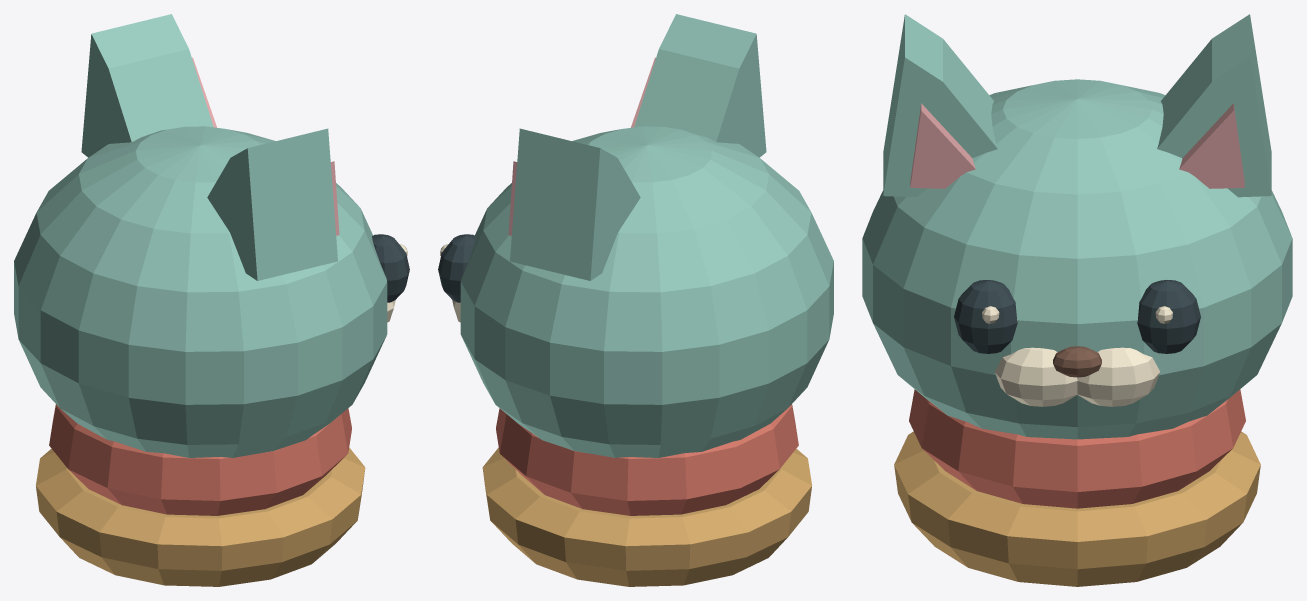
File: SM_Pinball_Recruit3.fbx
The picture shows the model from 3 angles, left to right: view 1: azimuth 30°, elevation 25°; view 2: azimuth 150°, elevation 25°; view 3: azimuth 270°, elevation 25°; orthographic projection. The views are drawn at different scales.
Parts seen in each view (by area): view 1: SM_Pinball_Recruit3; view 2: SM_Pinball_Recruit3; view 3: SM_Pinball_Recruit3.
Boxes of the visible parts, x1,y1,x2,y2 form: SM_Pinball_Recruit3: (14, 14, 409, 586); SM_Pinball_Recruit3: (438, 14, 833, 586); SM_Pinball_Recruit3: (862, 14, 1292, 586).
Size of the model in its own units: 56 by 55.35 by 69.7.
